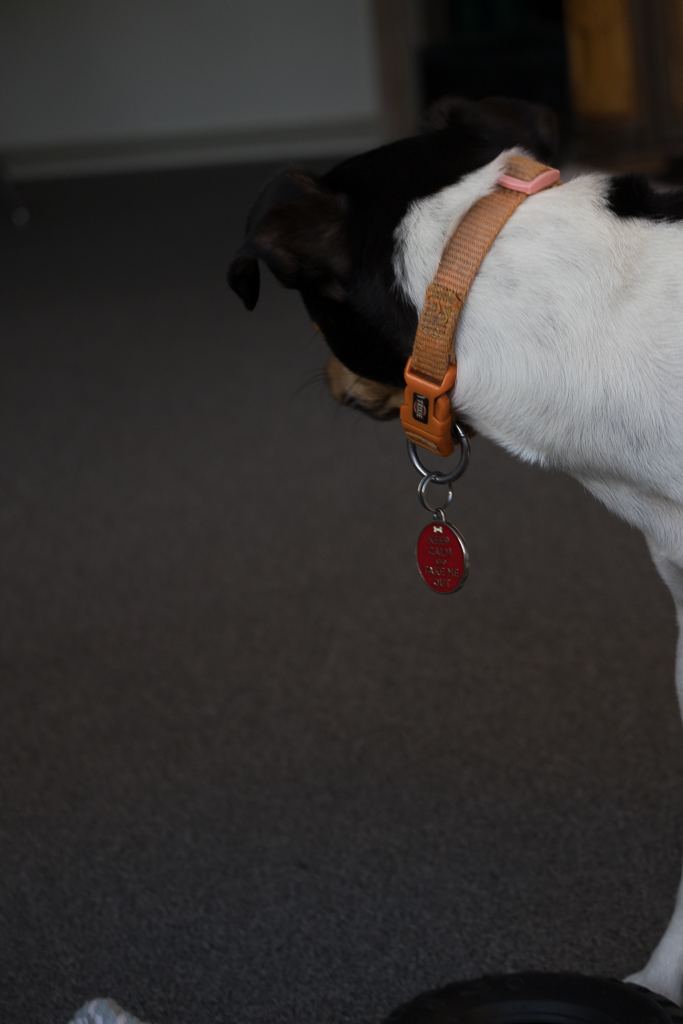Dog: (205, 84, 683, 1024)
